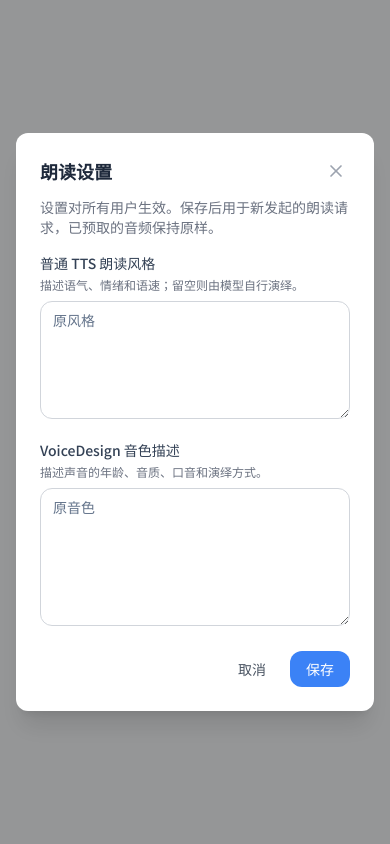
Test: keeps edited fields open when saving fails
Replace the text in the text box labelled "普通 TTS 朗读风格" with "修改后的风格" at (195, 360), box [40,301,350,419]
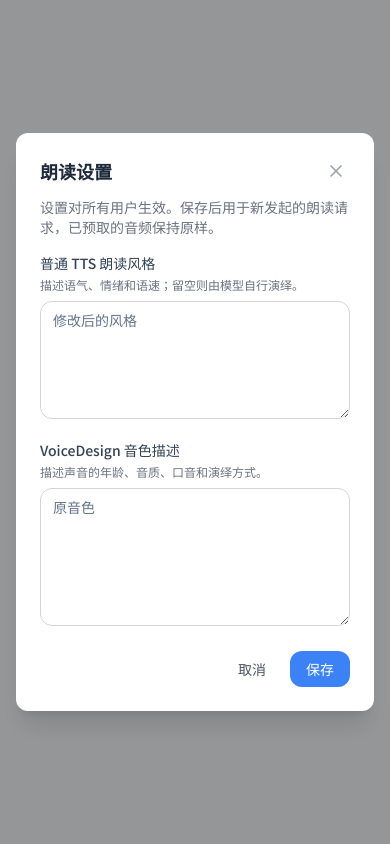
Click the button "保存" at (320, 669), box [290,651,350,687]
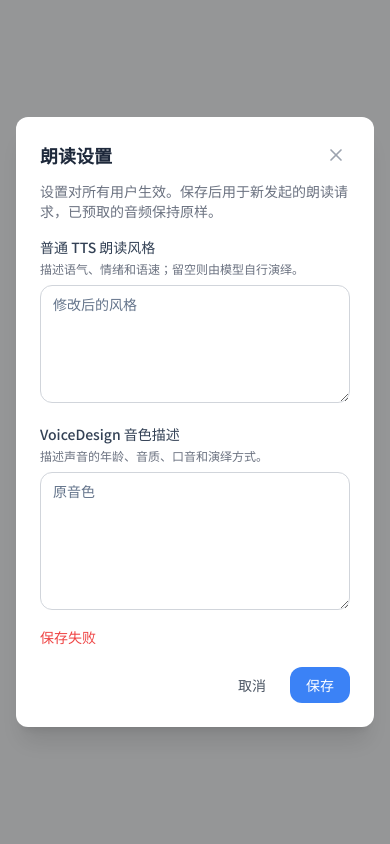
Now the message reads "保存失败", box [40,627,96,647]
